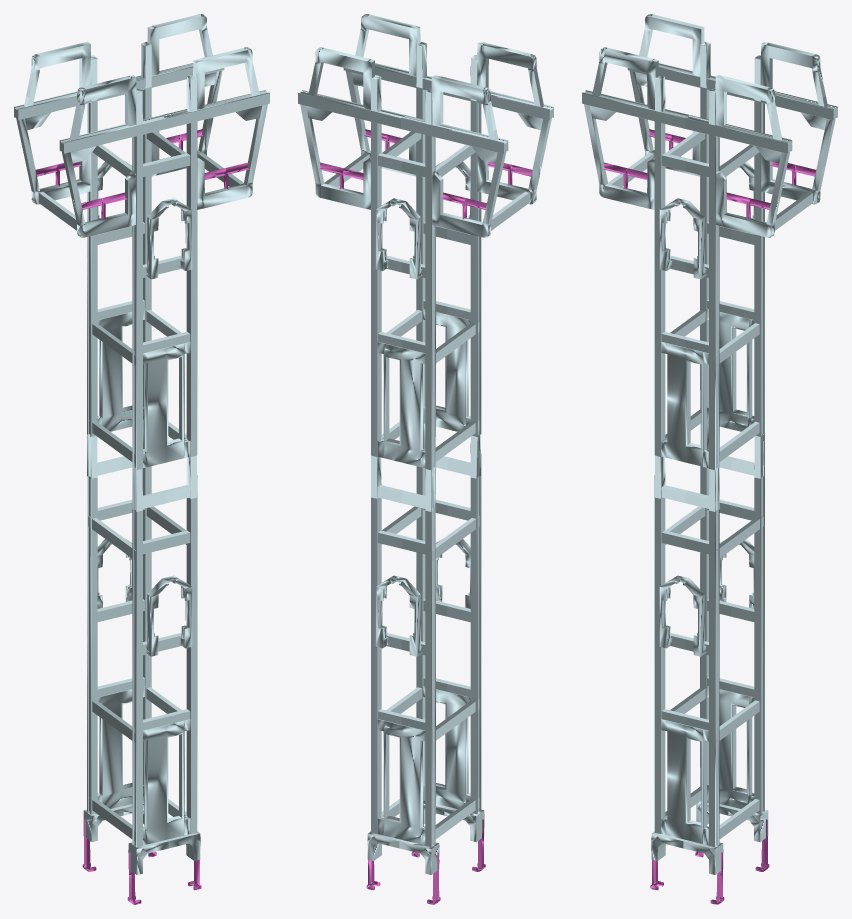
The model's file is pipeline_support_c.glb.
3 renders of one model, left to right at view 1: azimuth 30°, elevation 25°; view 2: azimuth 150°, elevation 25°; view 3: azimuth 330°, elevation 25°, orthographic.
Size of the model in its own units: 68.56 by 263 by 34.41.
